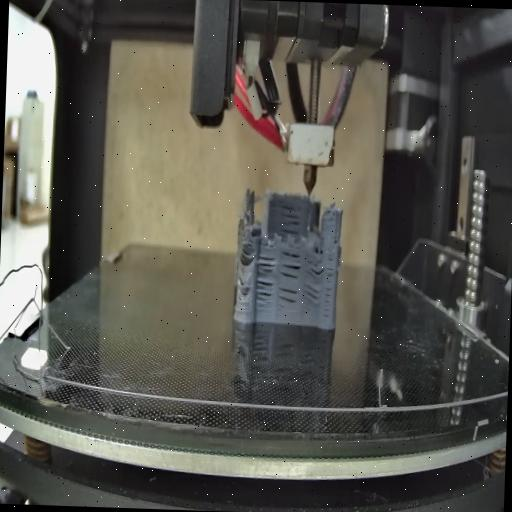cracks: (275, 202, 301, 234), (276, 250, 302, 280), (254, 281, 274, 307), (276, 287, 298, 307), (323, 264, 332, 312), (304, 283, 320, 306), (304, 259, 322, 279), (256, 254, 274, 274), (239, 247, 252, 265), (236, 275, 246, 291), (330, 234, 338, 244)
